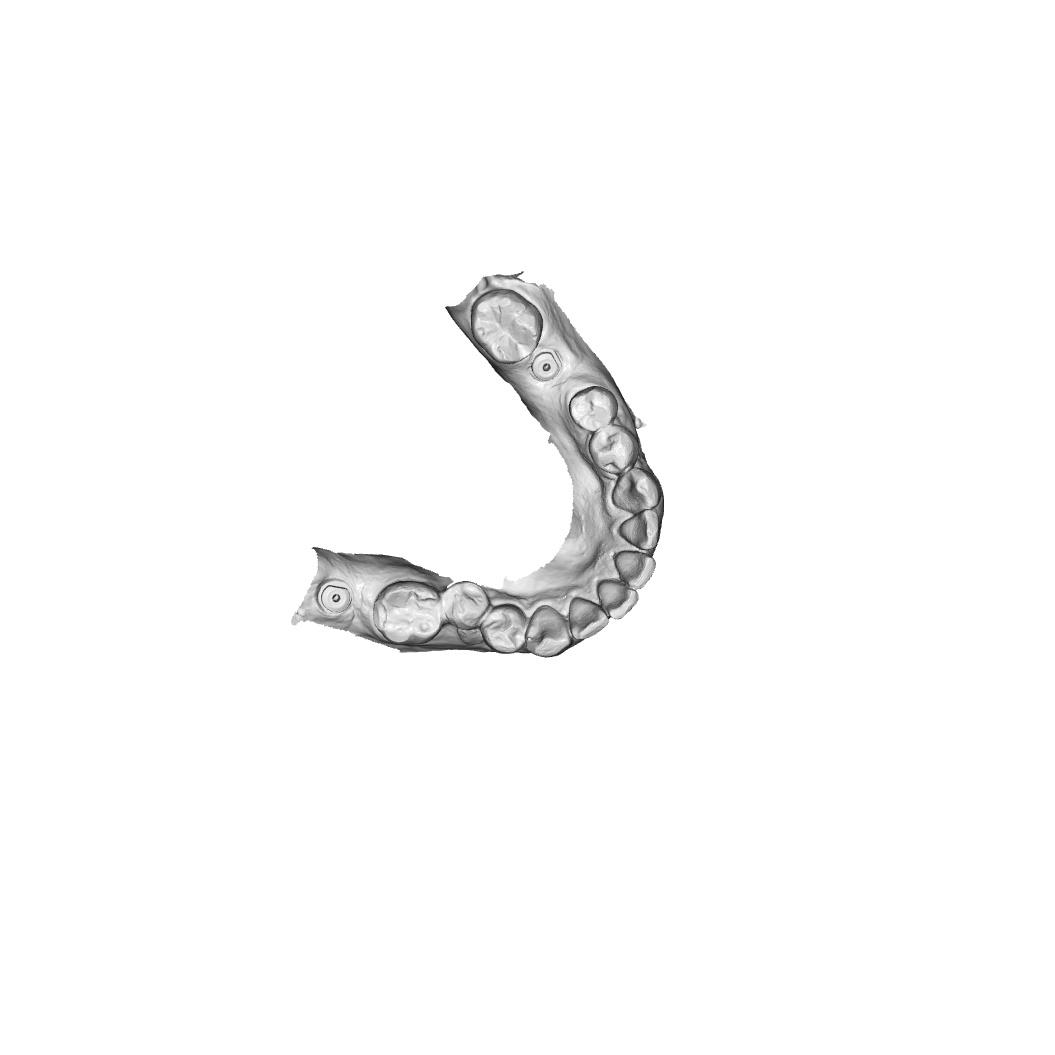canine: (524, 604, 573, 659), (612, 466, 662, 514)
implant: (314, 577, 354, 614), (530, 348, 564, 383)
incisor: (568, 596, 610, 641), (612, 549, 657, 591), (596, 578, 640, 620), (619, 508, 660, 551)
molar: (470, 287, 544, 365), (372, 579, 443, 647)
premolar: (588, 424, 640, 475), (479, 602, 528, 655), (442, 579, 491, 631), (568, 385, 619, 433)
